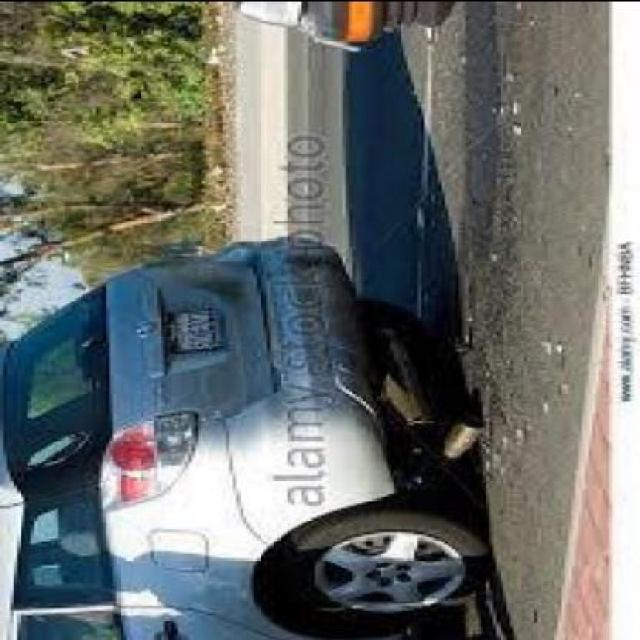damage: (179, 244, 331, 300)
